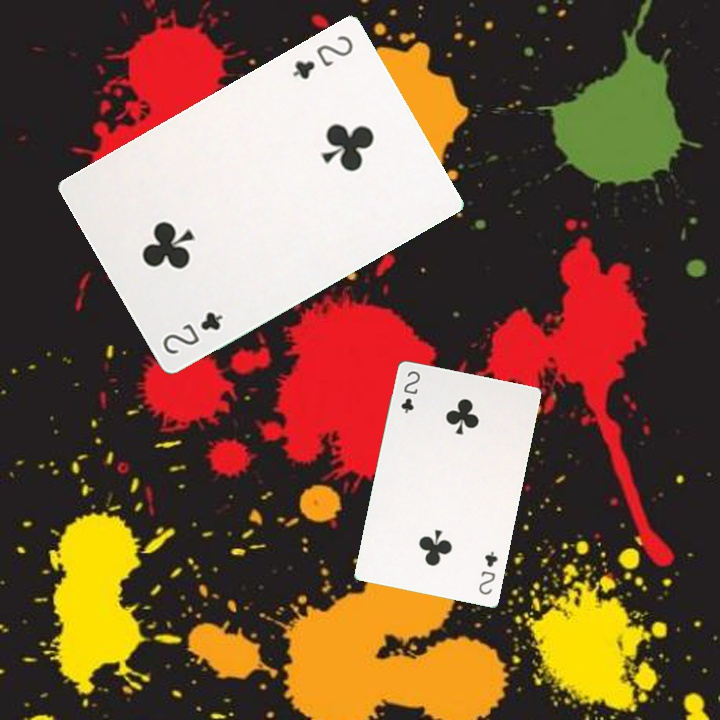2c: (288, 31, 356, 82), (158, 307, 226, 357), (474, 547, 501, 597), (397, 367, 423, 416)
